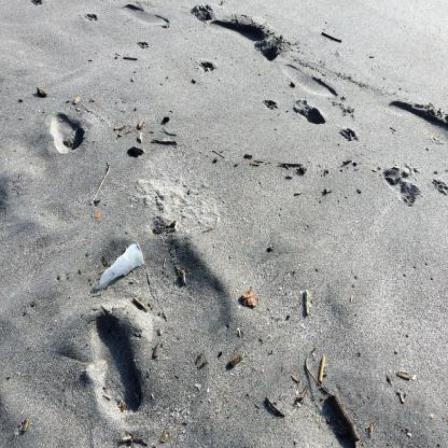Other plastic: (97, 245, 145, 290), (97, 214, 102, 219)
